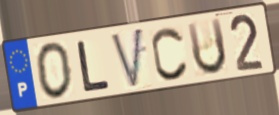2: (229, 12, 265, 72)
C: (150, 25, 191, 82)
L: (75, 39, 112, 94)
O: (34, 40, 75, 101)
U: (185, 15, 230, 78)
V: (109, 25, 145, 92)
